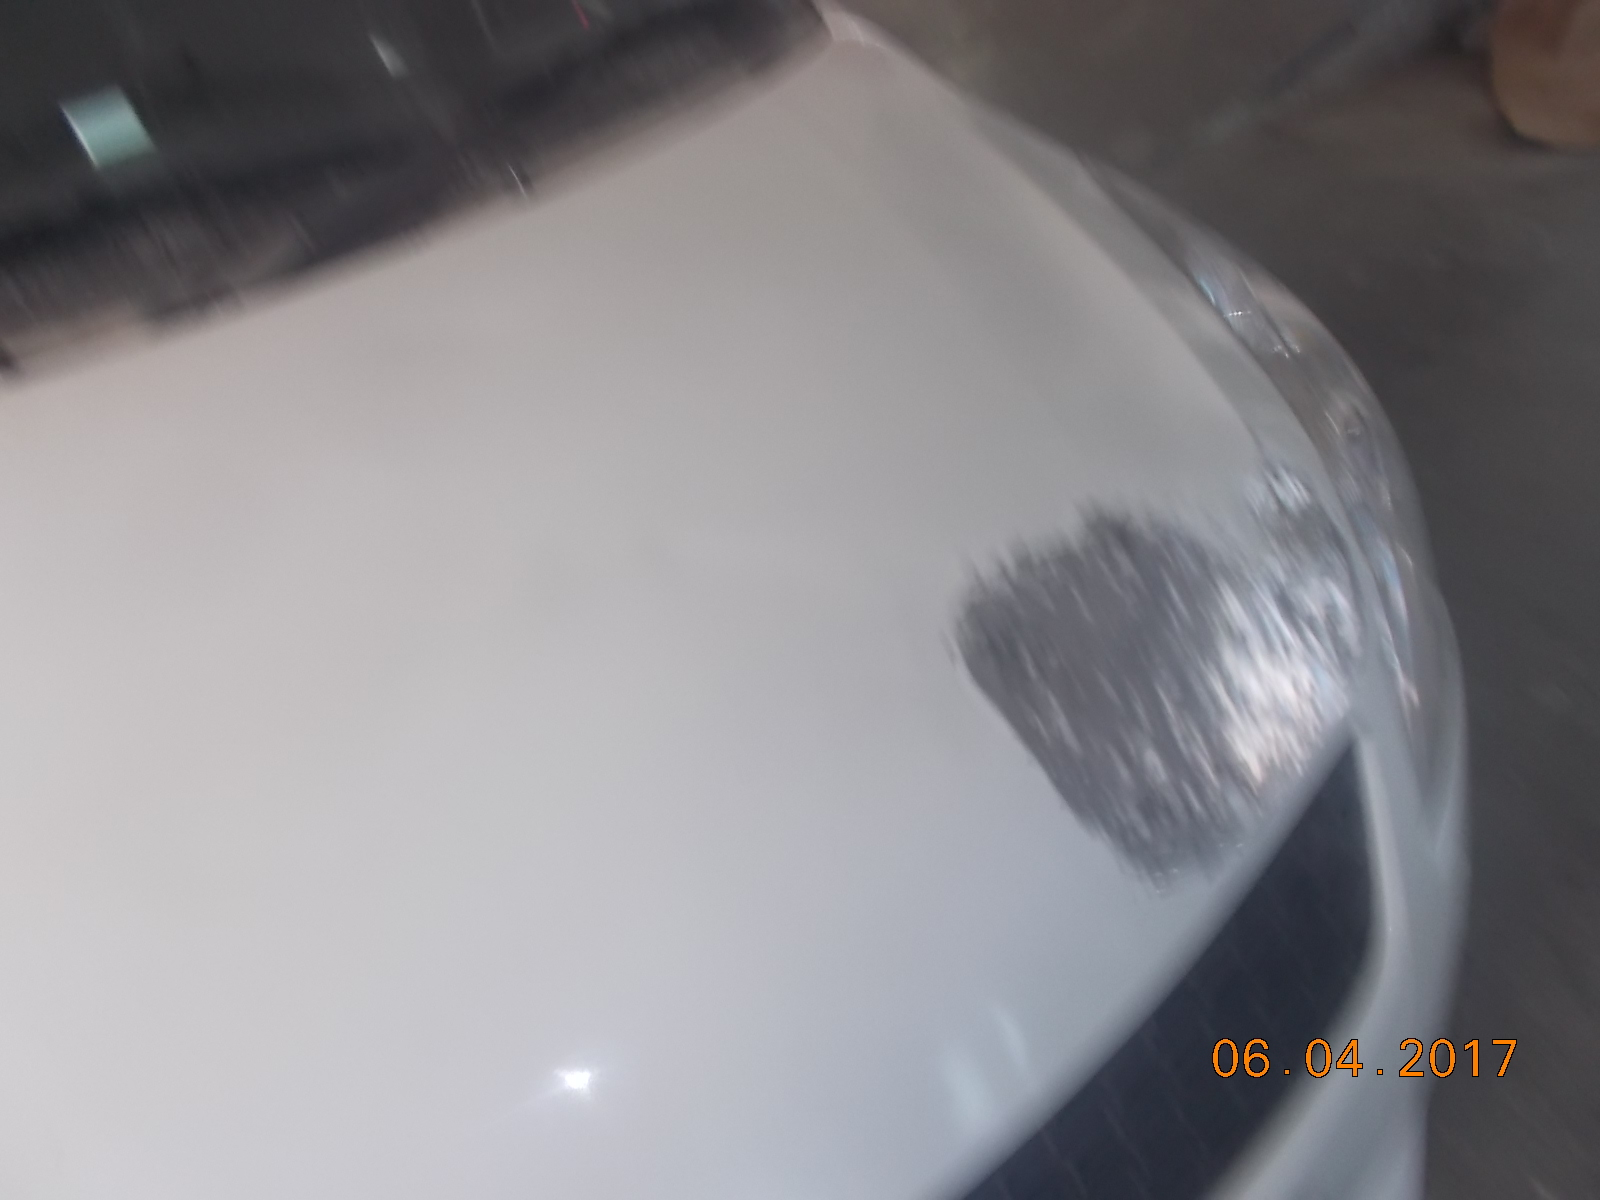Dent: (956, 484, 1303, 817)
